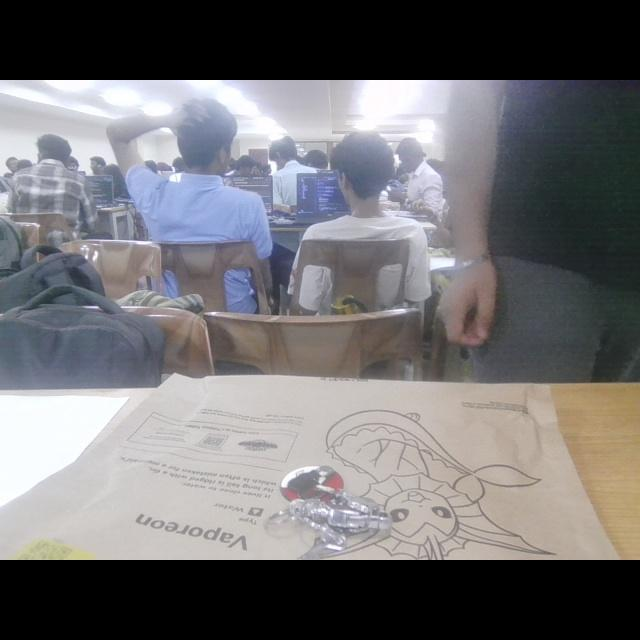keys: (258, 456, 398, 560)
